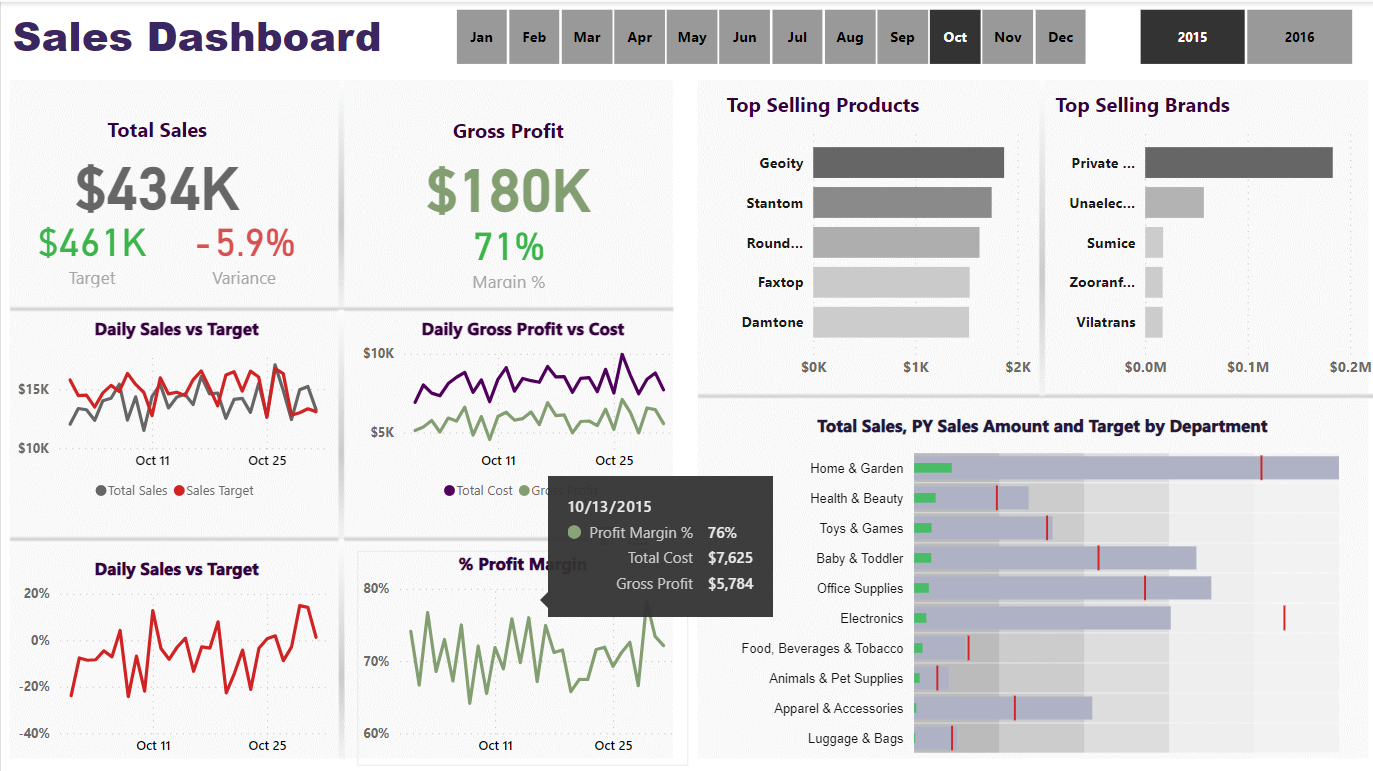

Layout of this report page (visuals, bound fields, positions):
{"tool":"powerbi","page":{"name":"Sales","canvas":[1280,720],"ordinal":0},"visuals":[{"type":"card","title":"Total Sales","fields":{"Values":["All Measures.Total Sales"]},"box":[4.9,106.1,281.2,97.8],"z":0},{"type":"slicer","title":"Year","fields":{"Values":["Calender Table.Year"]},"box":[1033.3,0,247,64.5],"z":1000},{"type":"slicer","title":"Year","fields":{"Values":["Calender Table.Month"]},"box":[397.9,0,635.3,64.5],"z":2000},{"type":"PBI_CV_7B952816_A48F_49B4_9E13_15E3BB2C0337","fields":{"Values":["All Measures.Sales Target"],"target":["All Measures.Total Sales"]},"box":[11,198,149.1,73.3],"z":3000},{"type":"PBI_CV_7B952816_A48F_49B4_9E13_15E3BB2C0337","fields":{"Values":["All Measures.% Sales Target"],"states":["All Measures.Blank Target"]},"box":[160.1,198,132,73.3],"z":4000},{"type":"lineChart","title":"Daily Sales vs Target","fields":{"Y":["All Measures.Total Sales","All Measures.Sales Target"],"Category":["Calender Table.Date"]},"box":[10.5,291.9,305.8,181.4],"z":5000},{"type":"lineChart","title":"Daily Sales vs Target","fields":{"Category":["Calender Table.Date"],"Y":["All Measures.% Sales Target"]},"box":[10.5,515.1,305.8,195.3],"z":6000},{"type":"card","title":"Gross Profit","fields":{"Values":["All Measures.Gross Profit"]},"box":[331.7,107,281.2,97.8],"z":7000},{"type":"PBI_CV_7B952816_A48F_49B4_9E13_15E3BB2C0337","fields":{"Values":["All Measures.Profit Margin %"],"target":["All Measures.Blank Target"]},"box":[403.8,204.8,138.1,67.2],"z":8000},{"type":"lineChart","title":"Daily Gross Profit vs Cost","fields":{"Category":["Calender Table.Date"],"Y":["All Measures.Total Cost","All Measures.Gross Profit"]},"box":[331.4,291.9,308.1,181.4],"z":9000},{"type":"lineChart","title":"% Profit Margin","fields":{"Category":["Calender Table.Date"],"Y":["All Measures.Profit Margin %"]},"box":[331.4,510.5,308.1,200],"z":10000},{"type":"barChart","title":"Top Selling Products","fields":{"Category":["Product.Product Name"],"Y":["All Measures.Total Sales"]},"box":[669.8,82.6,293,276.7],"z":11000},{"type":"barChart","title":"Top Selling Brands","fields":{"Y":["All Measures.Total Sales"],"Category":["Brand.Brand Name"]},"box":[975.6,82.6,304.7,276.7],"z":12000},{"type":"PBI_CV_9272D058_BEA0_476A_B090_A712545F92FA","title":"Total Sales, PY Sales Amount and Target by Department","fields":{"Category":["Category.Department"],"Value":["All Measures.Total Sales"],"targets":["Sum(CategoryTargets.Target)"],"ComparisonValue":["Sum(CategoryTargets.PY Sales Amount)"]},"box":[669.8,382.6,597.7,327.9],"z":13000},{"type":"textbox","box":[5.5,0,365,71.4],"z":14000}]}

Visuals, with their boxes in screenshot pixels (x1, y1, x2, y2), scaled from the page's 1280x720 canvas onto the 1373x771 screenshot:
"Total Sales" card: 5 114 307 218
"Year" slicer: 1108 0 1372 69
"Year" slicer: 427 0 1108 69
PBI_CV_7B952816_A48F_49B4_9E13_15E3BB2C0337 - All Measures.Sales Target x All Measures.Total Sales: 12 212 172 291
PBI_CV_7B952816_A48F_49B4_9E13_15E3BB2C0337 - All Measures.% Sales Target x All Measures.Blank Target: 172 212 313 291
"Daily Sales vs Target" lineChart: 11 313 339 507
"Daily Sales vs Target" lineChart: 11 552 339 761
"Gross Profit" card: 356 115 657 219
PBI_CV_7B952816_A48F_49B4_9E13_15E3BB2C0337 - All Measures.Profit Margin % x All Measures.Blank Target: 433 219 581 291
"Daily Gross Profit vs Cost" lineChart: 355 313 686 507
"% Profit Margin" lineChart: 355 547 686 761
"Top Selling Products" barChart: 718 88 1033 385
"Top Selling Brands" barChart: 1046 88 1372 385
"Total Sales, PY Sales Amount and Target by Department" PBI_CV_9272D058_BEA0_476A_B090_A712545F92FA: 718 410 1360 761
textbox: 6 0 397 76
